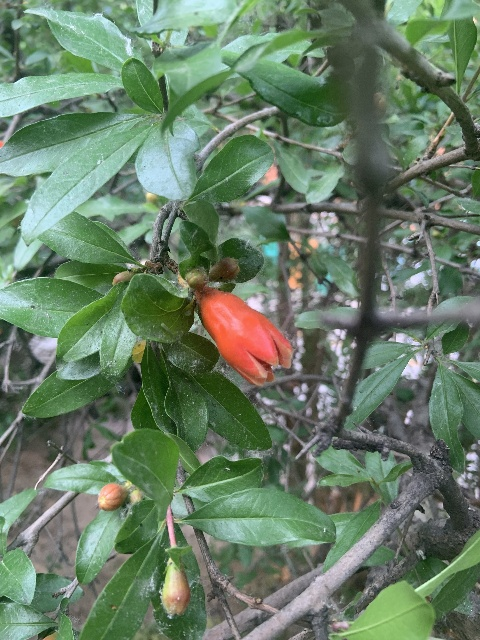bud: (161, 564, 190, 615), (97, 482, 127, 511), (209, 256, 240, 283), (185, 268, 207, 287), (112, 270, 133, 286)
flower: (198, 287, 293, 385)
